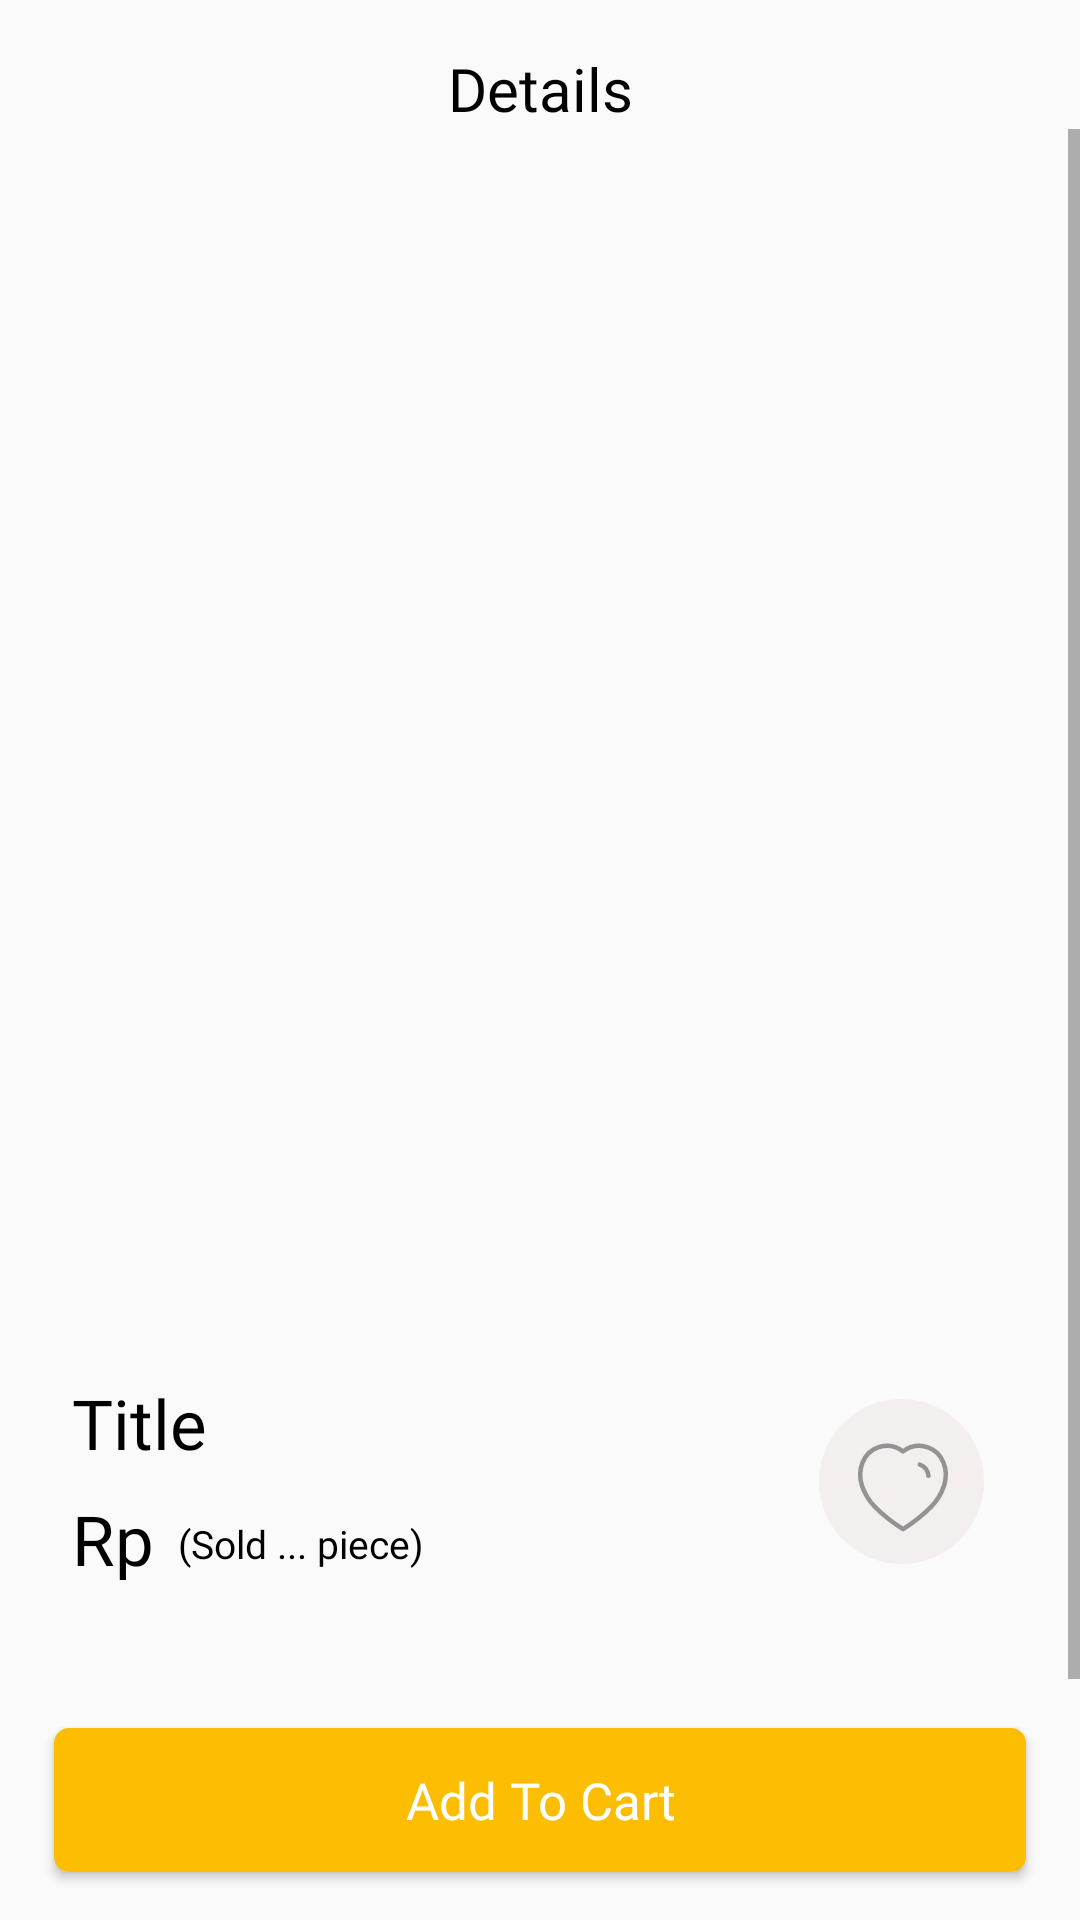

Named icons in this screenshot (1080×1920) and their centers, (x=x, y=y):
wishlist: (x=901, y=1481)
